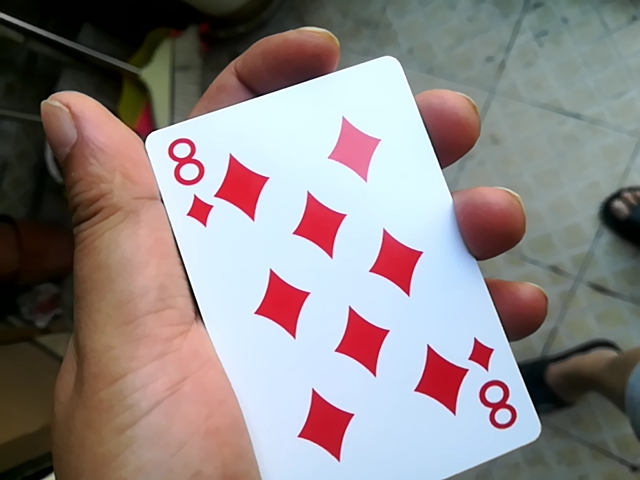fk 8: (131, 46, 517, 479)
